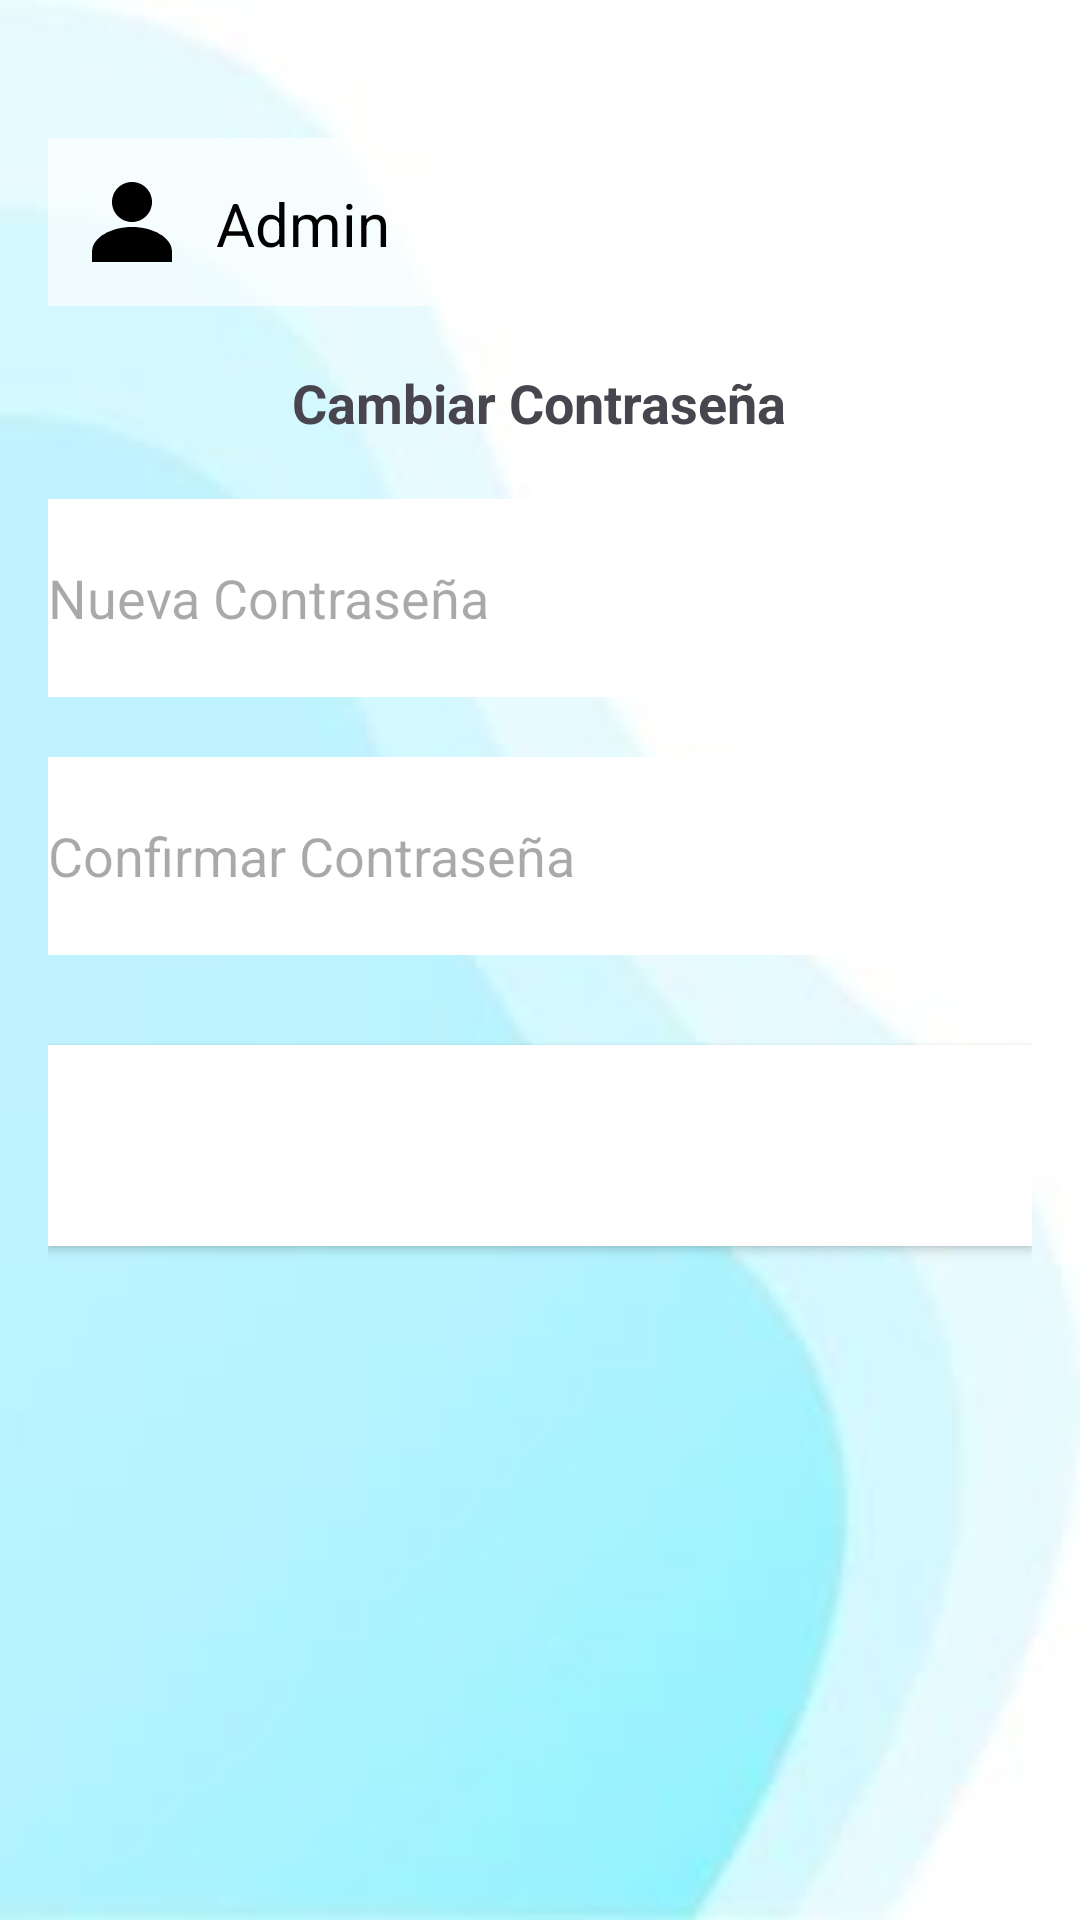

Point at icon controls on the screen. Image size 1080x1920, points as (x=x, y=y).
profile: (x=132, y=222)
